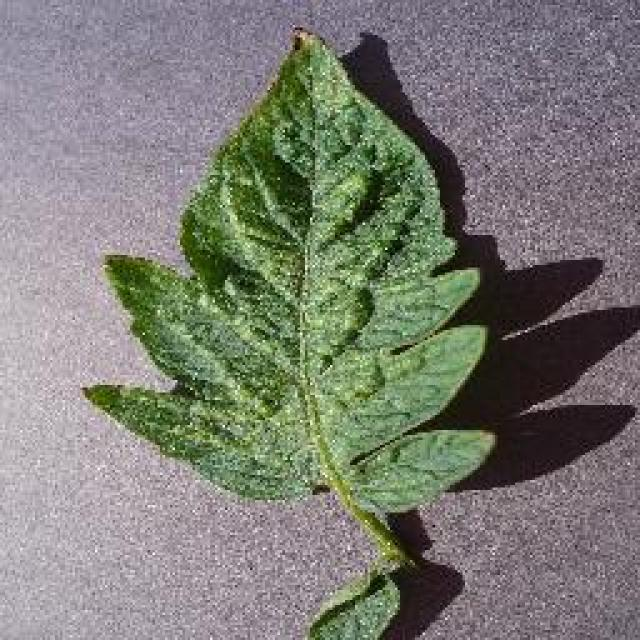Tomato___Spider_mites Two-spotted_spider_mite: (85, 30, 492, 638)
